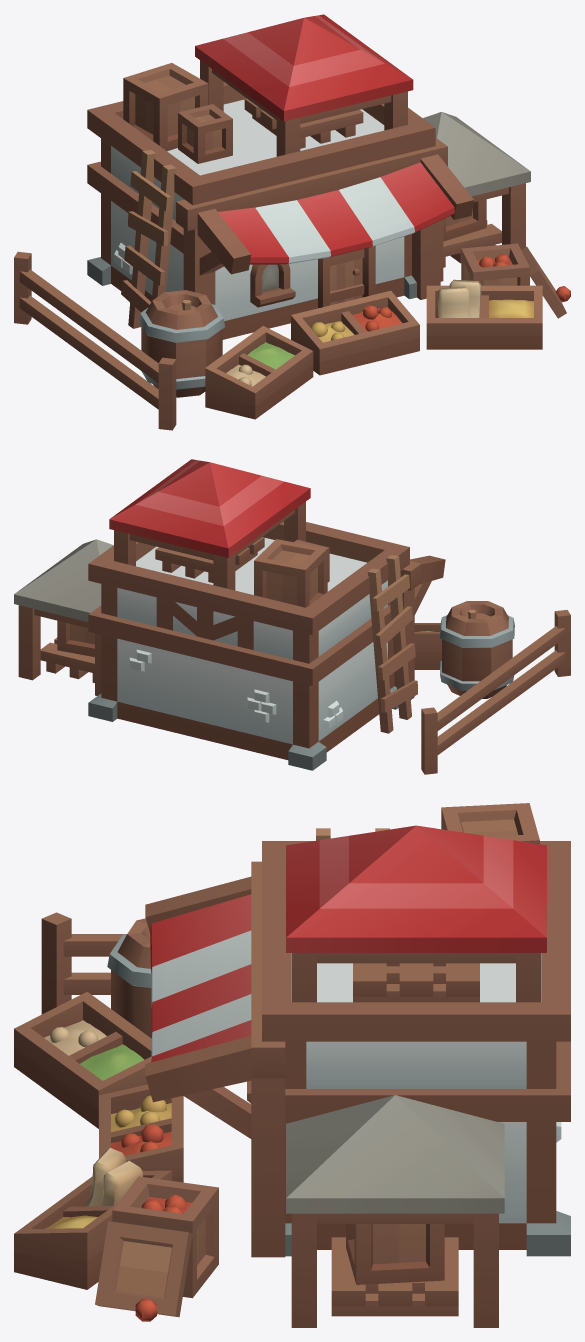
The model's file is building_market-B57cmUDw.glb.
3 renders of one model, top to bottom at view 1: azimuth 30°, elevation 25°; view 2: azimuth 150°, elevation 25°; view 3: azimuth 270°, elevation 25°, orthographic. The views are drawn at different scales.
Visible parts, largest first — view 1: building_market_red; view 2: building_market_red; view 3: building_market_red.
Boxes of the visible parts, x1,y1,x2,y2 form: building_market_red: (14,14,570,430); building_market_red: (14,459,570,774); building_market_red: (14,803,570,1327).
Size of the model in its own units: 9.9 by 5.4 by 7.24.
1 material, 1 textured.
